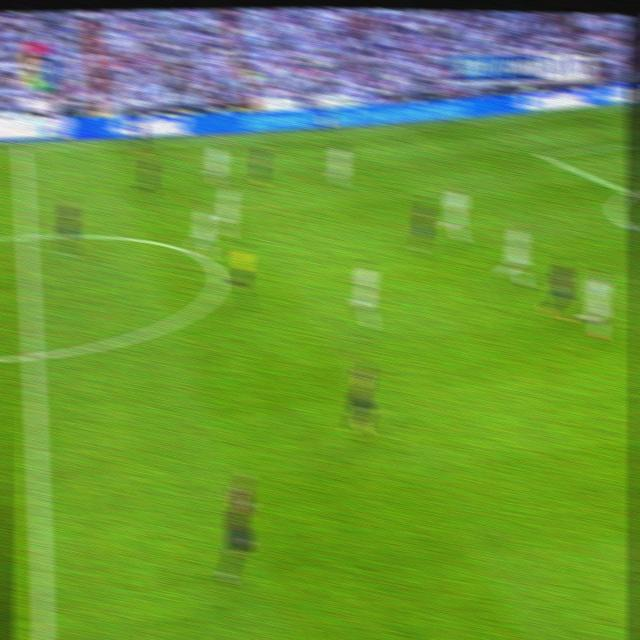bigarea_bottom_outter: (622, 180, 636, 202)
bigarea_top_inner: (622, 181, 637, 202)
halfcircle_bottom: (21, 334, 43, 375)
halfcircle_top: (16, 218, 36, 252)
midline_top_intersection: (12, 143, 30, 159)
